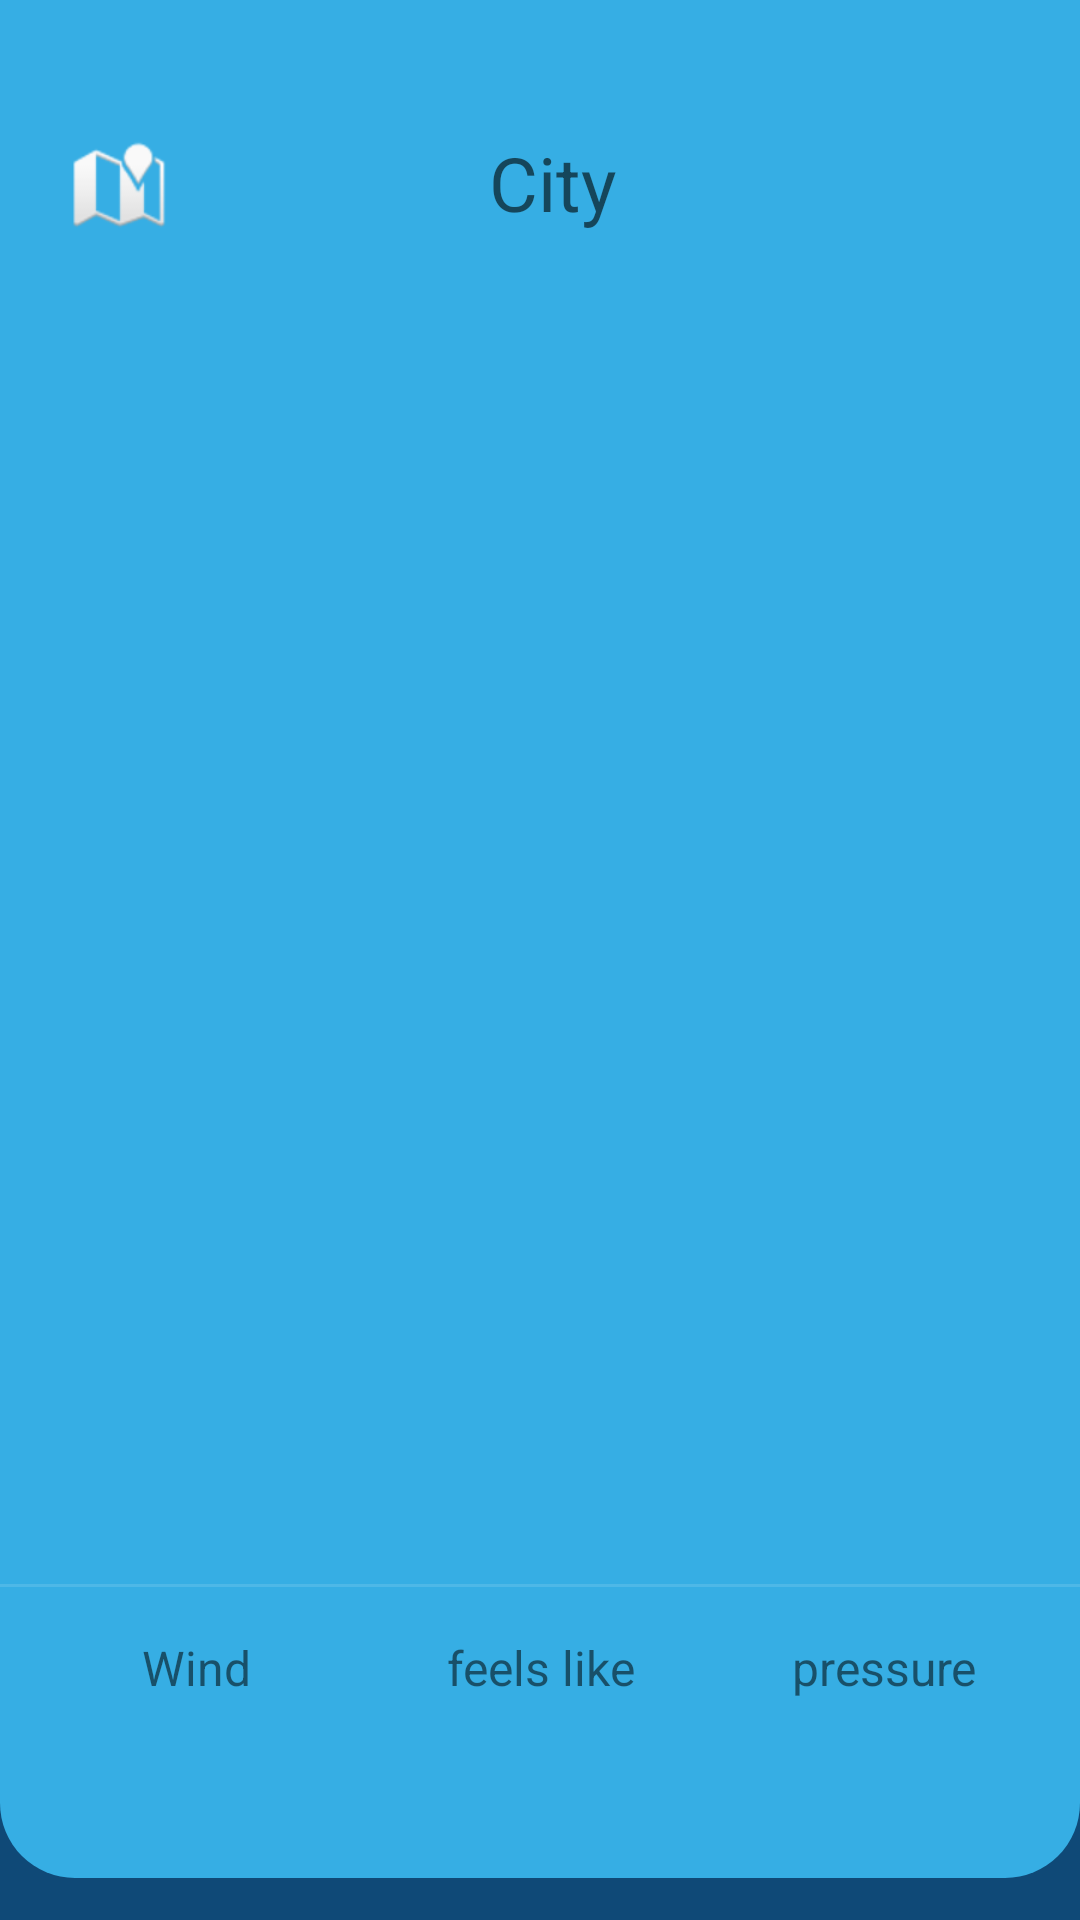

Where to tap for icons on this 1080 x 1920 app screen, as (x=x, y=y):
map: (x=119, y=185)
